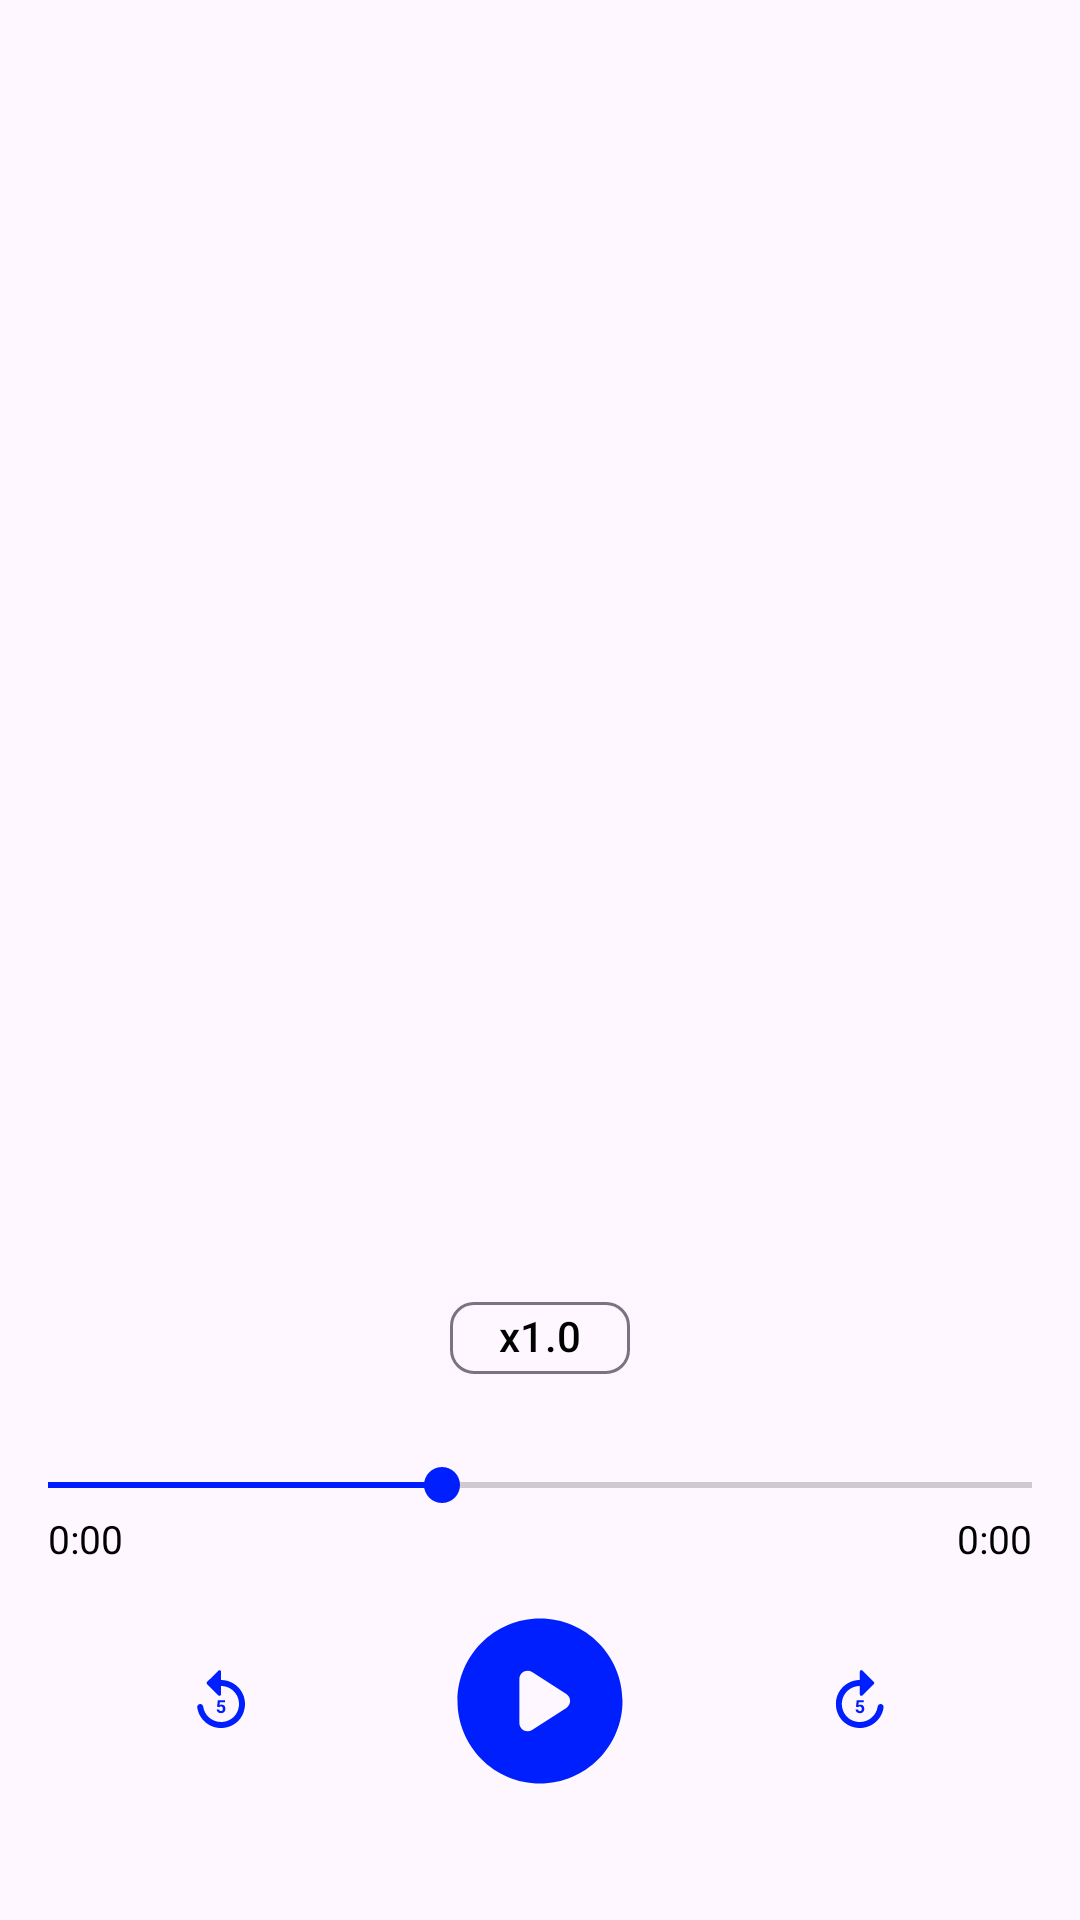

Locate icon controls on the screen. Image size 1080w x 1920h, boxes as (x1, y1, x2, y2).
forward: (835, 1670, 884, 1728)
play circle: (457, 1618, 623, 1784)
replay: (197, 1670, 245, 1728)
